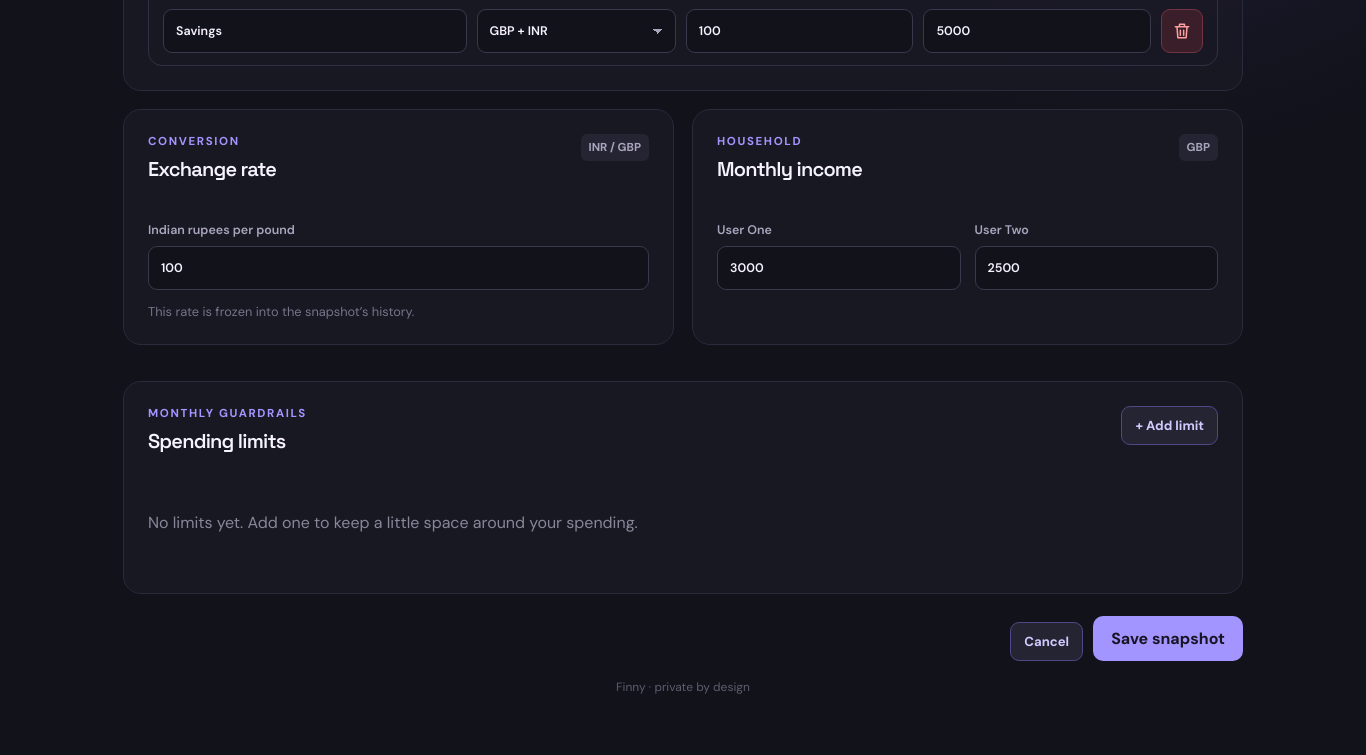
EditDashboardPage › uses accessible trash buttons for assets and limits
(page scrolled)
Expected: the field showing "Savings" is shown, x1=163 y1=9 x2=466 y2=53
Click the button "+ Add limit".
click(1170, 425)  # box x1=1121 y1=406 x2=1218 y2=445
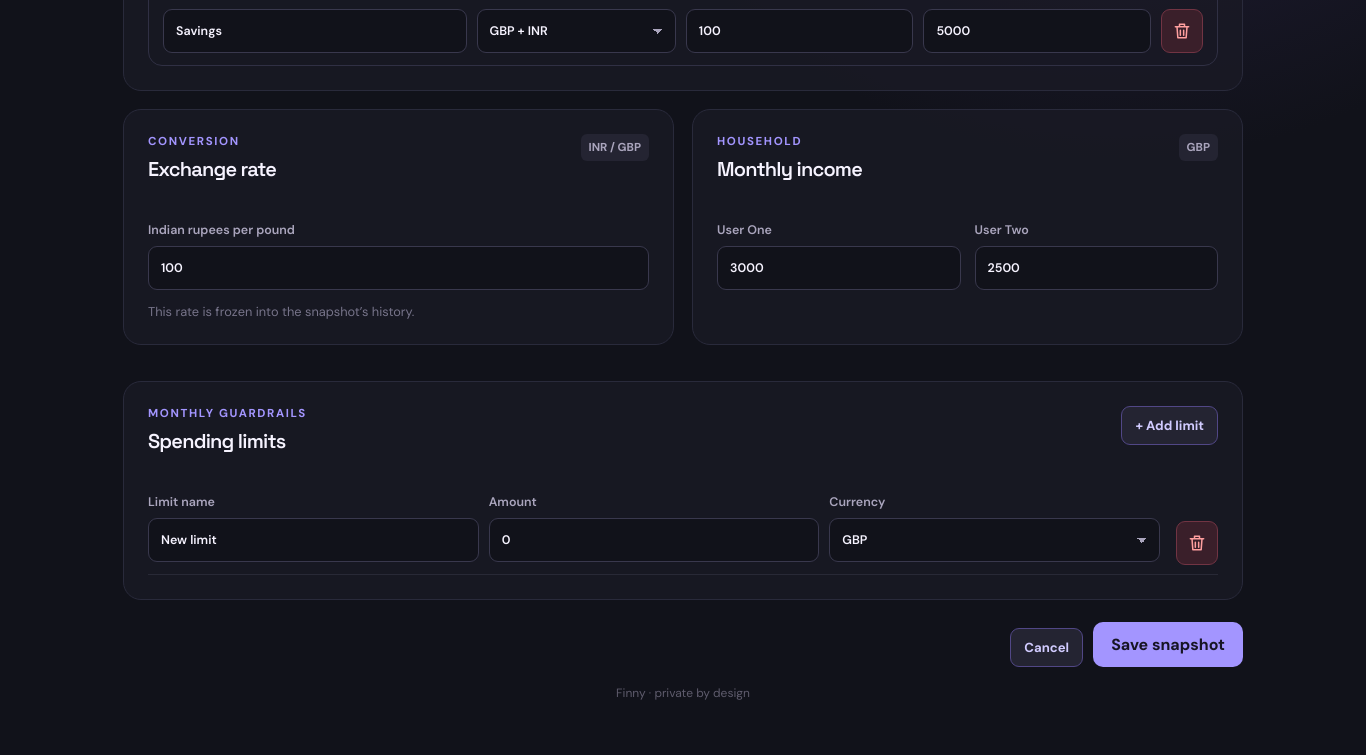
Result: the button named "Remove New limit spending limit" is shown at x1=1176 y1=521 x2=1218 y2=565
